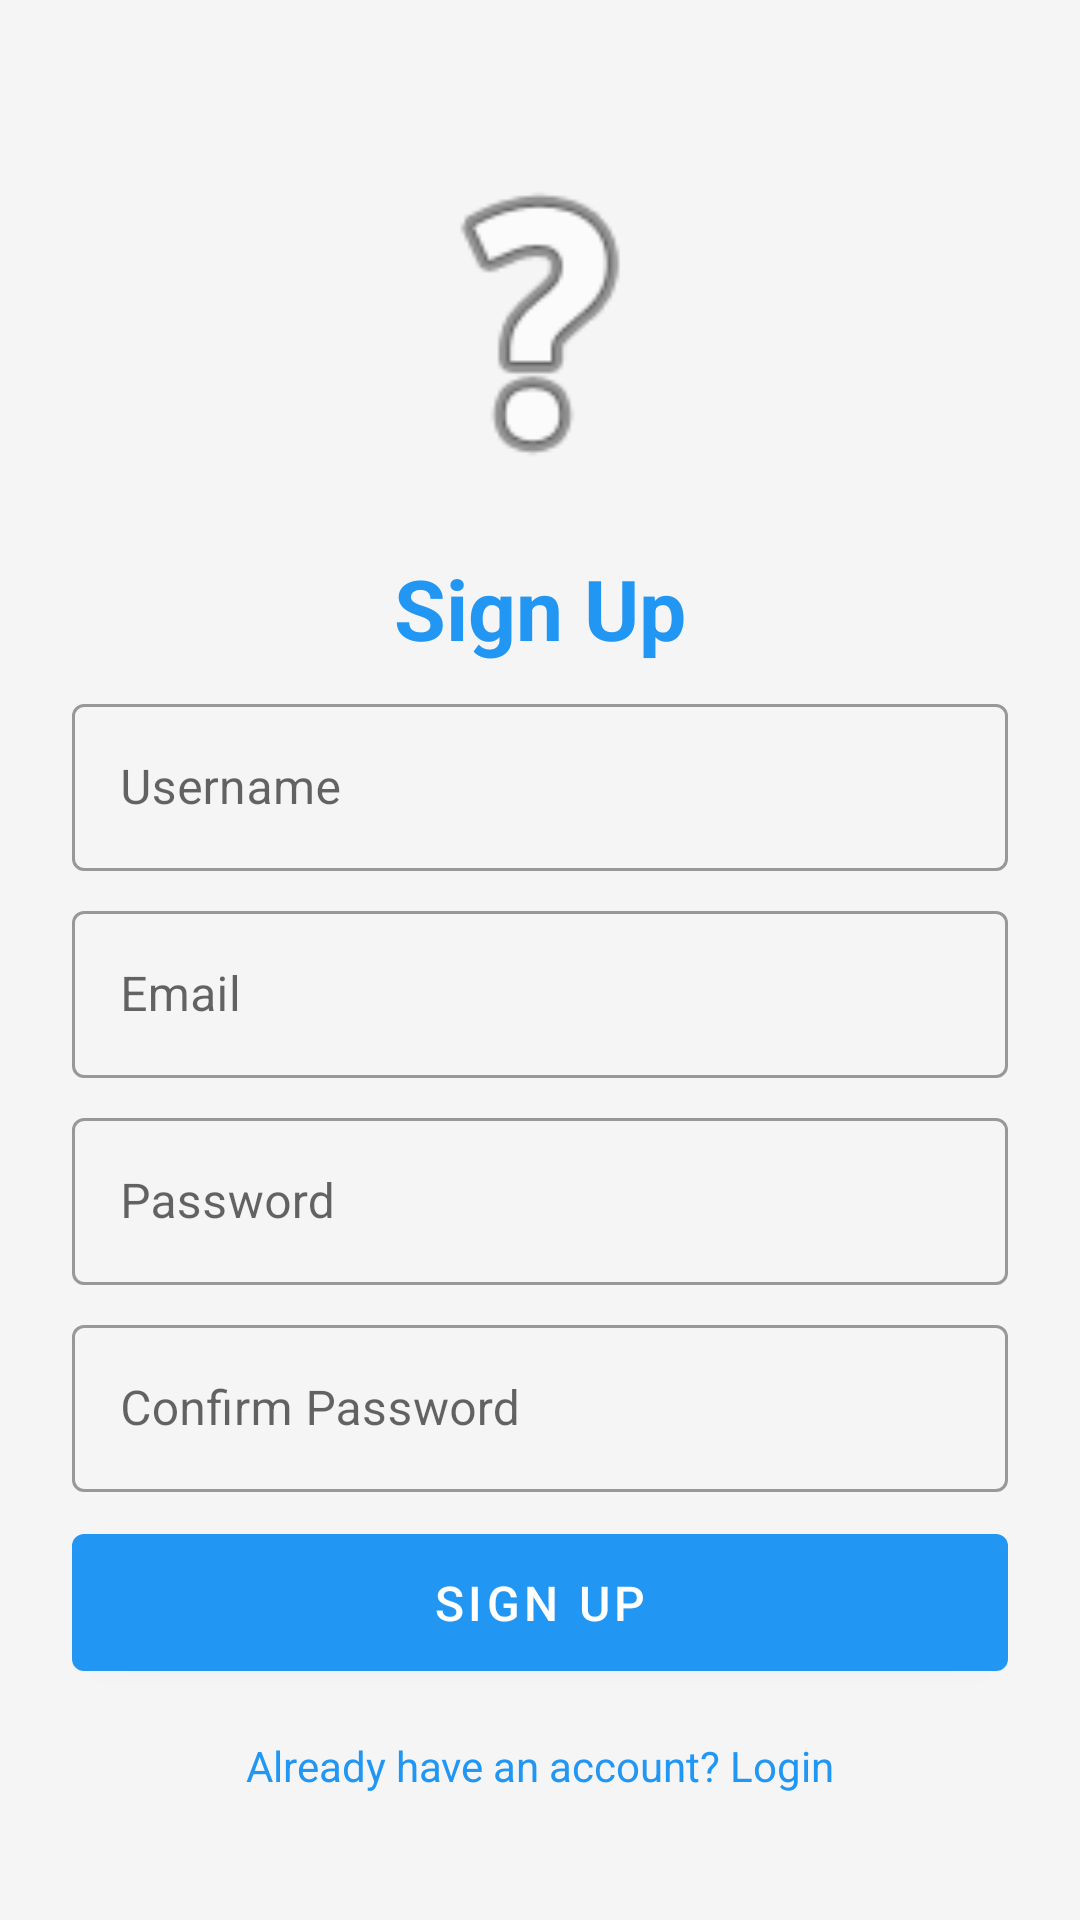

Screen size 1080×1920. Icon name, then its center in pixels as (x,y):
help: (540,324)
